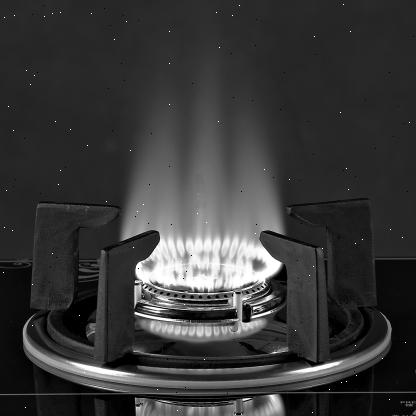fire: (115, 26, 309, 310)
